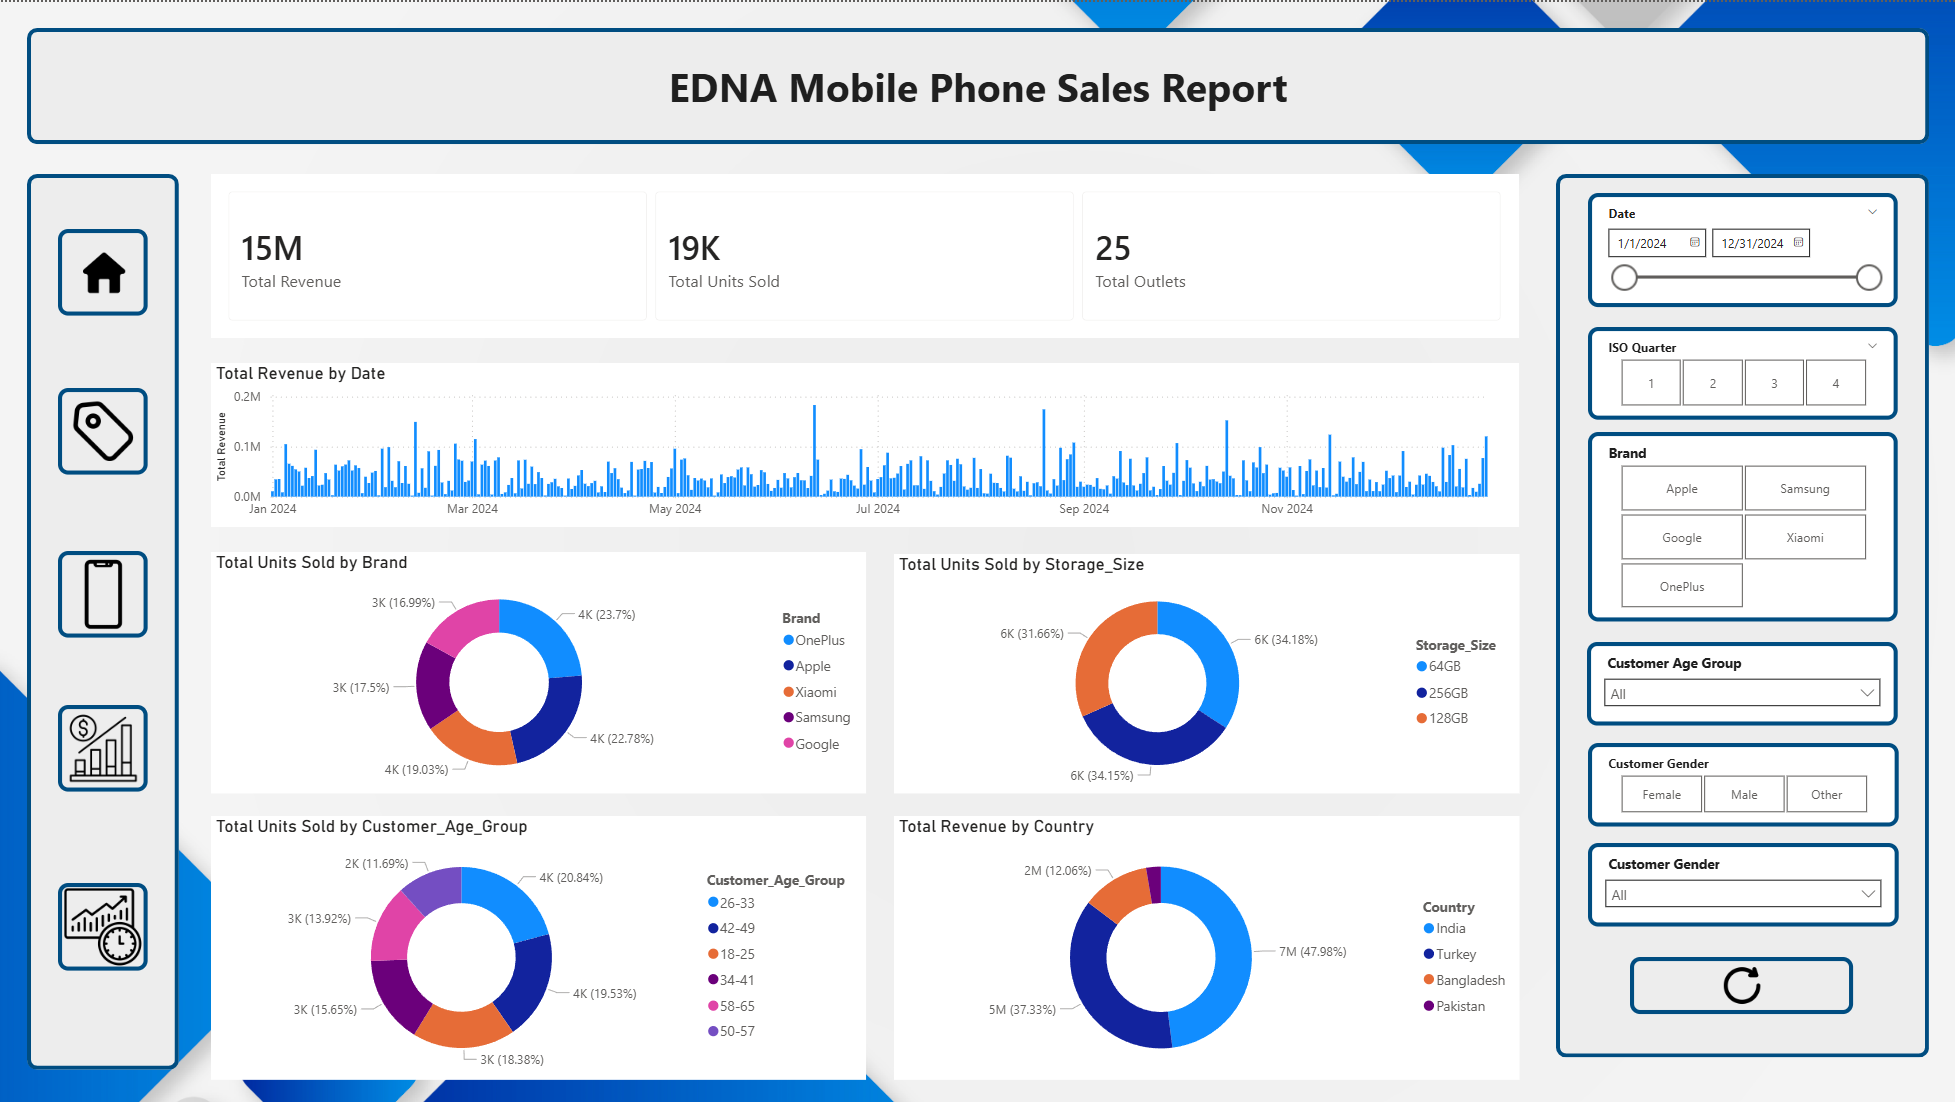

The page's visual inventory and layout, read from the dashboard file:
{"tool":"powerbi","page":{"name":"Overview ","canvas":[1920,1080],"ordinal":0},"visuals":[{"type":"shape","box":[26.3,25.2,1867.4,114],"z":0},{"type":"shape","box":[26.3,168.9,149.1,879.4],"z":1000},{"type":"shape","box":[1527.4,168.9,366.2,867.3],"z":2000},{"type":"slicer","fields":{"Values":["Date_Dim.Date"]},"box":[1559.2,187.5,303.7,111.8],"z":3000},{"type":"slicer","fields":{"Values":["Date_Dim.Quarter"]},"box":[1559.2,319.1,303.7,91],"z":4000},{"type":"slicer","fields":{"Values":["Mobile_Sales.Brand"]},"box":[1559.2,422.2,303.7,186.4],"z":5000},{"type":"slicer","fields":{"Values":["Mobile_Sales.Customer_Age_Group"]},"box":[1558.1,628.3,304.8,82.2],"z":6000},{"type":"slicer","fields":{"Values":["Mobile_Sales.Customer_Gender"]},"box":[1559.2,727,304.8,82.2],"z":7000},{"type":"slicer","fields":{"Values":["Mobile_Sales.Country"]},"box":[1559.2,825.7,304.8,82.2],"z":8000},{"type":"image","box":[56.7,222.8,88.3,85.1],"z":9000},{"type":"image","box":[56.7,690.4,88.3,85.1],"z":10000},{"type":"image","box":[56.7,864.9,88.3,86.2],"z":11000},{"type":"image","box":[56.7,379.4,88.3,85.1],"z":12000},{"type":"image","box":[1599.8,937.5,219.3,55.9],"z":13000},{"type":"image","box":[56.7,539.1,88.3,85.1],"z":14000},{"type":"lineStackedColumnComboChart","fields":{"Category":["Date_Dim.Date"],"Y":["Mobile_Sales.Total Revenue"]},"box":[207.2,354.2,1284,161.2],"z":15000},{"type":"donutChart","fields":{"Category":["Mobile_Sales.Brand"],"Y":["Mobile_Sales.Total Units Sold"]},"box":[207.2,539.5,642.6,236.8],"z":16000},{"type":"cardVisual","fields":{"Data":["Mobile_Sales.Total Revenue","Mobile_Sales.Total Units Sold","Mobile_Sales.Total Outlets"]},"box":[207.2,168.9,1284,161.2],"z":17000},{"type":"donutChart","fields":{"Category":["Mobile_Sales.Storage_Size"],"Y":["Mobile_Sales.Total Units Sold"]},"box":[877.2,541.7,614,234.7],"z":18000},{"type":"donutChart","fields":{"Category":["Mobile_Sales.Customer_Age_Group"],"Y":["Mobile_Sales.Total Units Sold"]},"box":[207.2,799.4,642.6,258.8],"z":19000},{"type":"donutChart","fields":{"Category":["Mobile_Sales.Country"],"Y":["Mobile_Sales.Total Revenue"]},"box":[877.2,799.4,614,258.8],"z":20000}]}

Visuals, with their boxes in screenshot pixels (x1, y1, x2, y2), scaled from the page's 1920x1080 canvas onto the 1955x1102 screenshot:
shape: select_region(27, 26, 1928, 142)
shape: select_region(27, 172, 179, 1070)
shape: select_region(1555, 172, 1928, 1057)
slicer - Date_Dim.Date: select_region(1588, 191, 1897, 305)
slicer - Date_Dim.Quarter: select_region(1588, 326, 1897, 418)
slicer - Mobile_Sales.Brand: select_region(1588, 431, 1897, 621)
slicer - Mobile_Sales.Customer_Age_Group: select_region(1587, 641, 1897, 725)
slicer - Mobile_Sales.Customer_Gender: select_region(1588, 742, 1898, 826)
slicer - Mobile_Sales.Country: select_region(1588, 843, 1898, 926)
image: select_region(58, 227, 148, 314)
image: select_region(58, 704, 148, 791)
image: select_region(58, 883, 148, 970)
image: select_region(58, 387, 148, 474)
image: select_region(1629, 957, 1852, 1014)
image: select_region(58, 550, 148, 637)
lineStackedColumnComboChart - Date_Dim.Date x Mobile_Sales.Total Revenue: select_region(211, 361, 1518, 526)
donutChart - Mobile_Sales.Brand x Mobile_Sales.Total Units Sold: select_region(211, 550, 865, 792)
cardVisual - Mobile_Sales.Total Revenue x Mobile_Sales.Total Units Sold: select_region(211, 172, 1518, 337)
donutChart - Mobile_Sales.Storage_Size x Mobile_Sales.Total Units Sold: select_region(893, 553, 1518, 792)
donutChart - Mobile_Sales.Customer_Age_Group x Mobile_Sales.Total Units Sold: select_region(211, 816, 865, 1080)
donutChart - Mobile_Sales.Country x Mobile_Sales.Total Revenue: select_region(893, 816, 1518, 1080)
